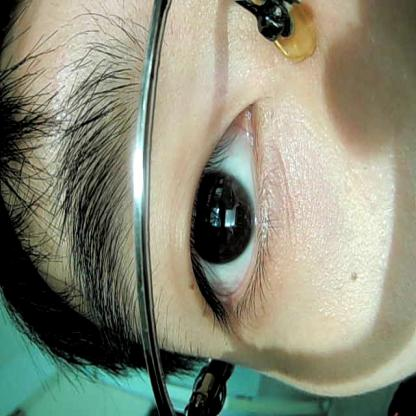Straight: (178, 89, 284, 339)
